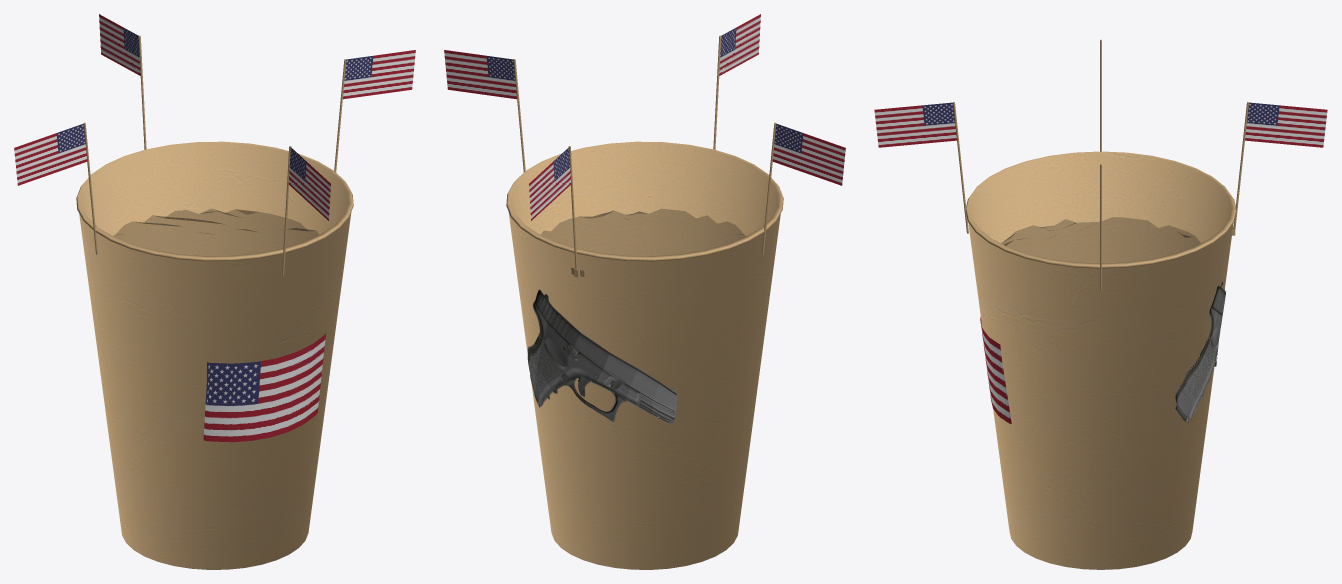
File: Wiskonsis.gltf
The picture shows the model from 3 angles, left to right: view 1: azimuth 30°, elevation 25°; view 2: azimuth 150°, elevation 25°; view 3: azimuth 270°, elevation 25°; orthographic projection. The views are drawn at different scales.
Parts seen in each view (by area): view 1: Cup, bandiera.001, bandiera, Water, Bandiera; view 2: Cup, bandiera, gluck, Water, Bandiera; view 3: Cup, Water, bandiera, gluck, bandiera.001, Bandiera.
Boxes of the visible parts, x1,y1,x2,y2 form: Cup: (76,141,353,569); bandiera.001: (203,333,326,442); bandiera: (14,14,415,220); Water: (114,209,318,255); Bandiera: (83,35,346,275); Cup: (506,141,783,569); bandiera: (444,14,845,220); gluck: (527,289,677,423); Water: (541,209,745,255); Bandiera: (513,35,776,271); Cup: (965,151,1236,569); Water: (1001,217,1200,262); bandiera: (874,102,1327,147); gluck: (1175,282,1226,422); bandiera.001: (980,317,1011,423); Bandiera: (953,39,1248,289).
Bounding box in the file's own units: 0.4076 × 0.4258 × 0.4076.
4 materials, 3 textured.
